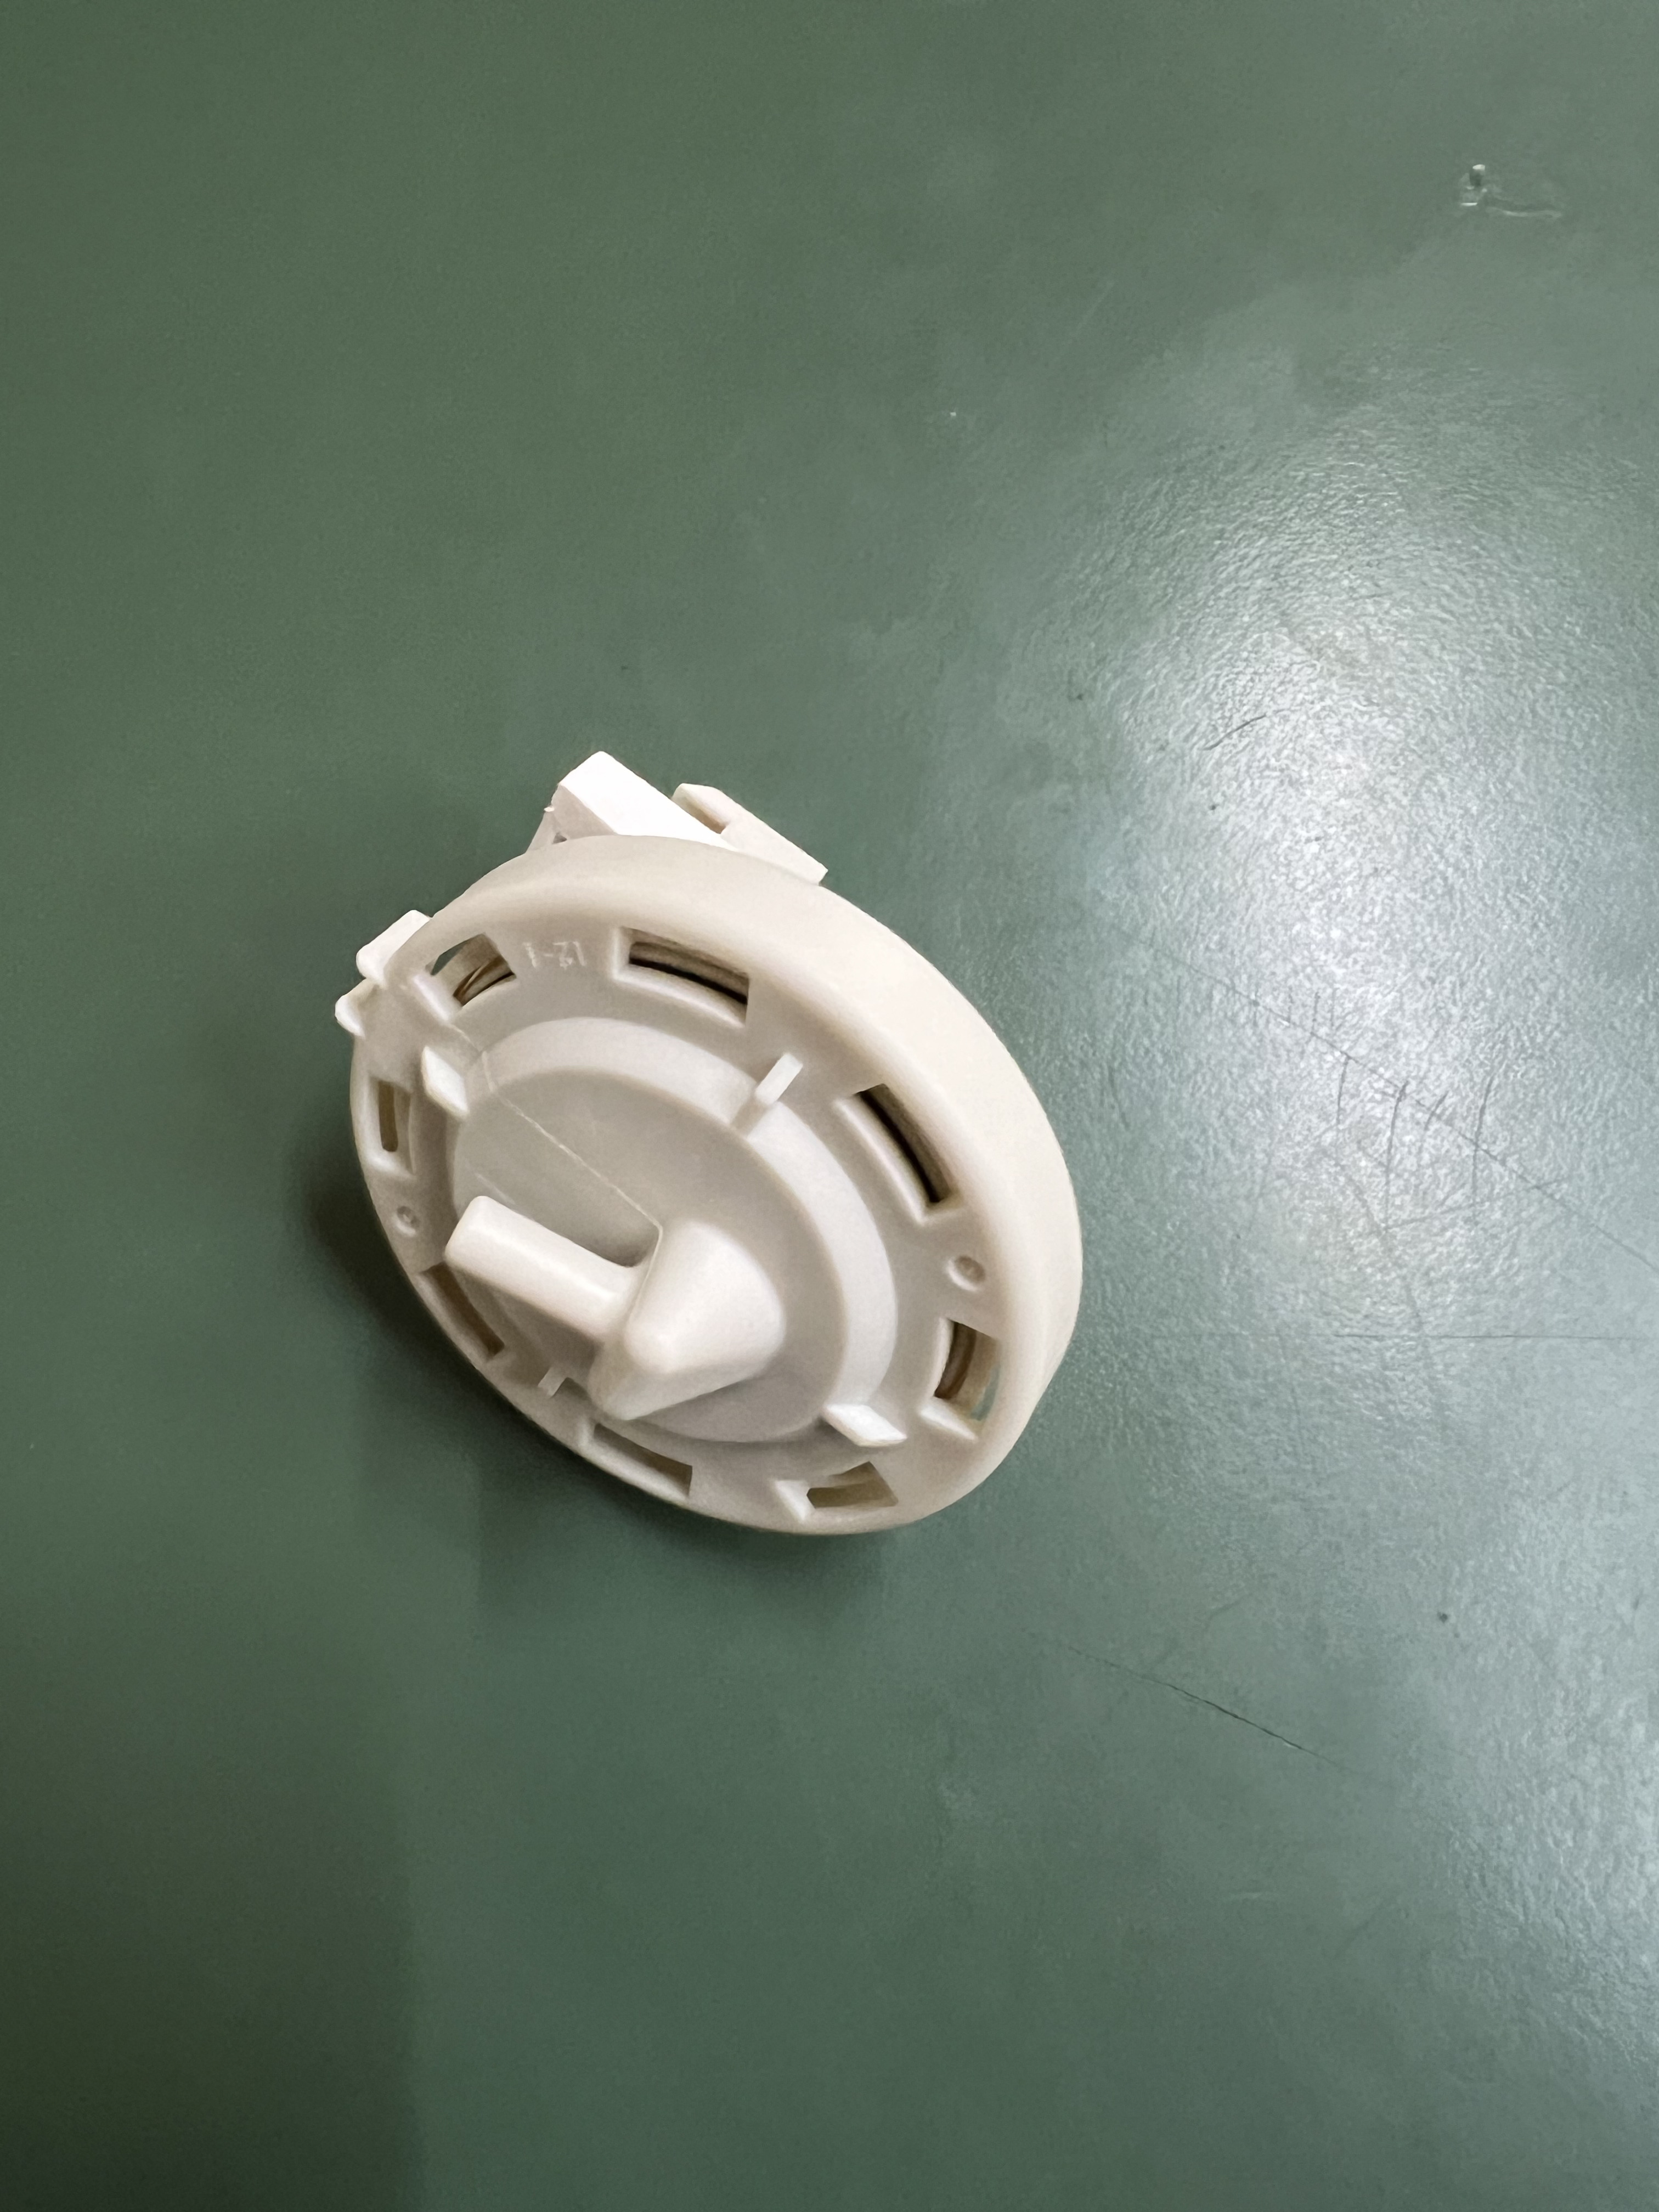pressure_sensor: (331, 740, 1107, 1583)
